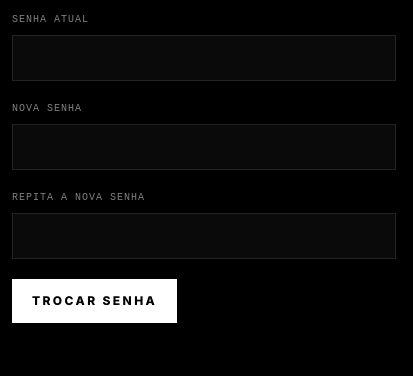
Test case: ChangePasswordForm › senha atual errada: mensagem clara e nada muda
Type "errada123" into the password field labelled "Senha atual". click: x=204, y=58
box: [12, 35, 396, 81]
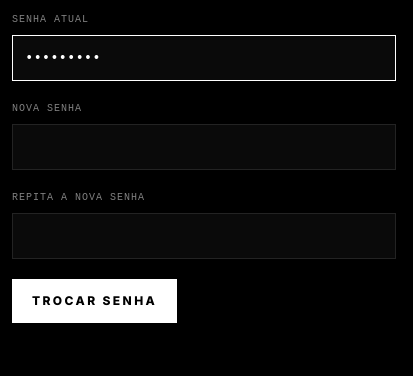
Type "novinha456" into the password field labelled "Nova senha". click: x=204, y=147
box: [12, 124, 396, 170]
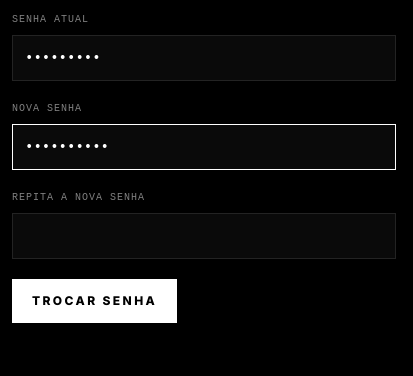
Type "novinha456" into the password field labelled "Repita a nova senha". click: x=204, y=236
box: [12, 213, 396, 259]
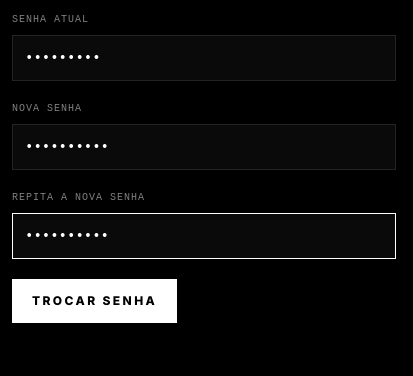
Click the button "Trocar senha". click: x=95, y=301
box: [12, 279, 177, 323]
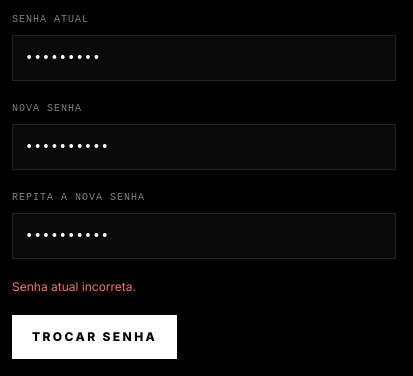
Expected: the text "Senha atual incorreta." is shown, [12, 279, 136, 294]
